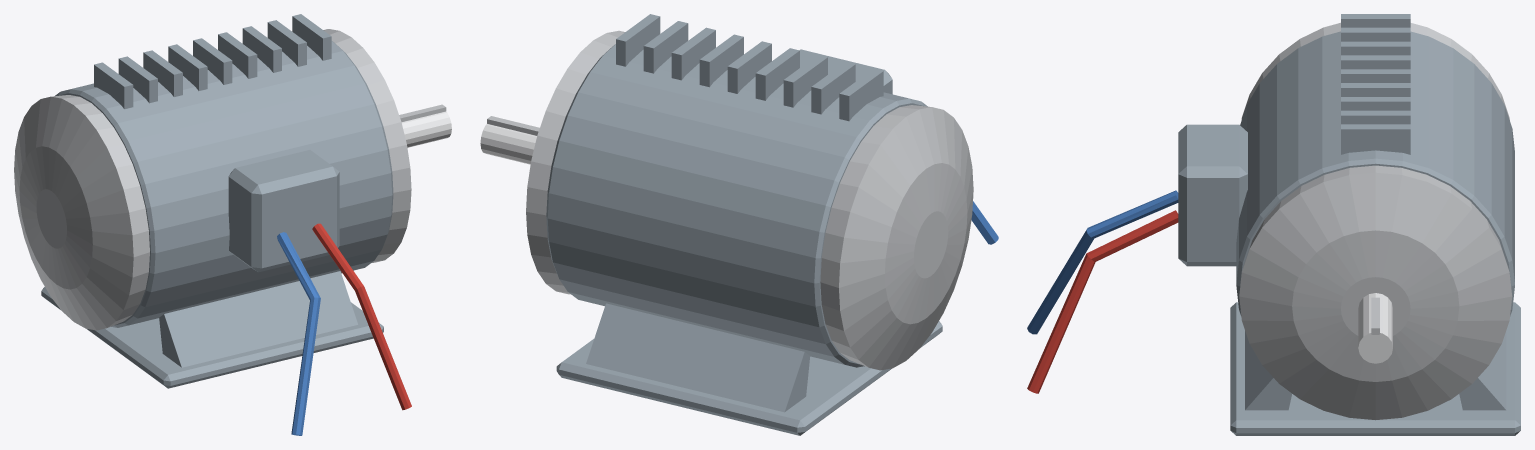
File: motor_eletrico.glb
3 views of the same model, side by side, from view 1: azimuth 30°, elevation 25°; view 2: azimuth 150°, elevation 25°; view 3: azimuth 270°, elevation 25° (orthographic). The views are drawn at different scales.
Parts seen in each view (by area): view 1: motor_eletrico_aco_pintado, motor_eletrico_aco, motor_eletrico_fio_azul, motor_eletrico_fio_vermelho, motor_eletrico_aco_polido; view 2: motor_eletrico_aco_pintado, motor_eletrico_aco, motor_eletrico_aco_polido, motor_eletrico_fio_azul; view 3: motor_eletrico_aco_pintado, motor_eletrico_aco, motor_eletrico_fio_vermelho, motor_eletrico_fio_azul, motor_eletrico_aco_polido.
Boxes of the visible parts, <box> form: motor_eletrico_aco_pintado: <box>41,14,393,388</box>; motor_eletrico_aco: <box>14,29,446,330</box>; motor_eletrico_fio_azul: <box>277,232,320,435</box>; motor_eletrico_fio_vermelho: <box>312,223,411,410</box>; motor_eletrico_aco_polido: <box>401,111,451,147</box>; motor_eletrico_aco_pintado: <box>546,14,942,435</box>; motor_eletrico_aco: <box>487,30,973,370</box>; motor_eletrico_aco_polido: <box>480,124,536,164</box>; motor_eletrico_fio_azul: <box>971,201,998,244</box>; motor_eletrico_aco_pintado: <box>1178,14,1520,435</box>; motor_eletrico_aco: <box>1239,22,1512,420</box>; motor_eletrico_fio_vermelho: <box>1027,210,1178,393</box>; motor_eletrico_fio_azul: <box>1027,190,1178,334</box>; motor_eletrico_aco_polido: <box>1358,293,1392,363</box>.
Bounding box in the file's own units: 0.178 × 0.116 × 0.17.
